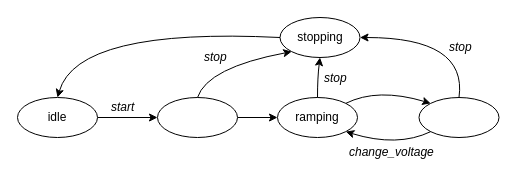
This 517x180 diagram has some shape labels left out. Each missing label, with the centre of its shape:
"configure" belongs at point (197, 117).
"continuous" belongs at point (458, 117).
